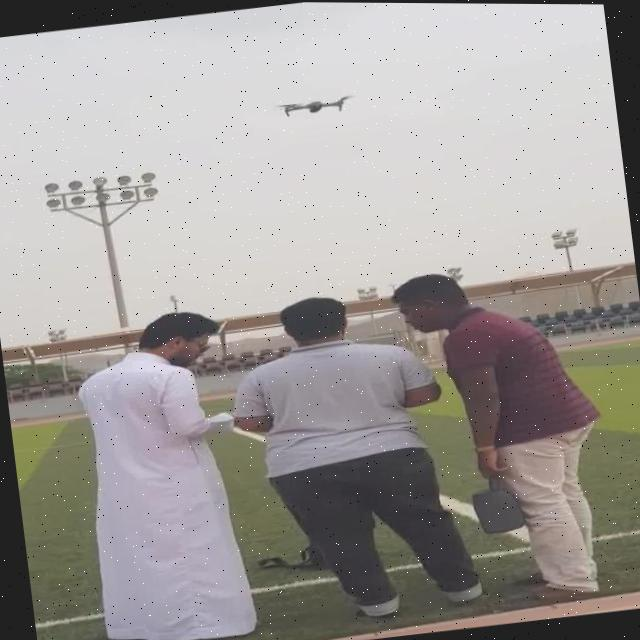drone: (270, 89, 360, 123)
